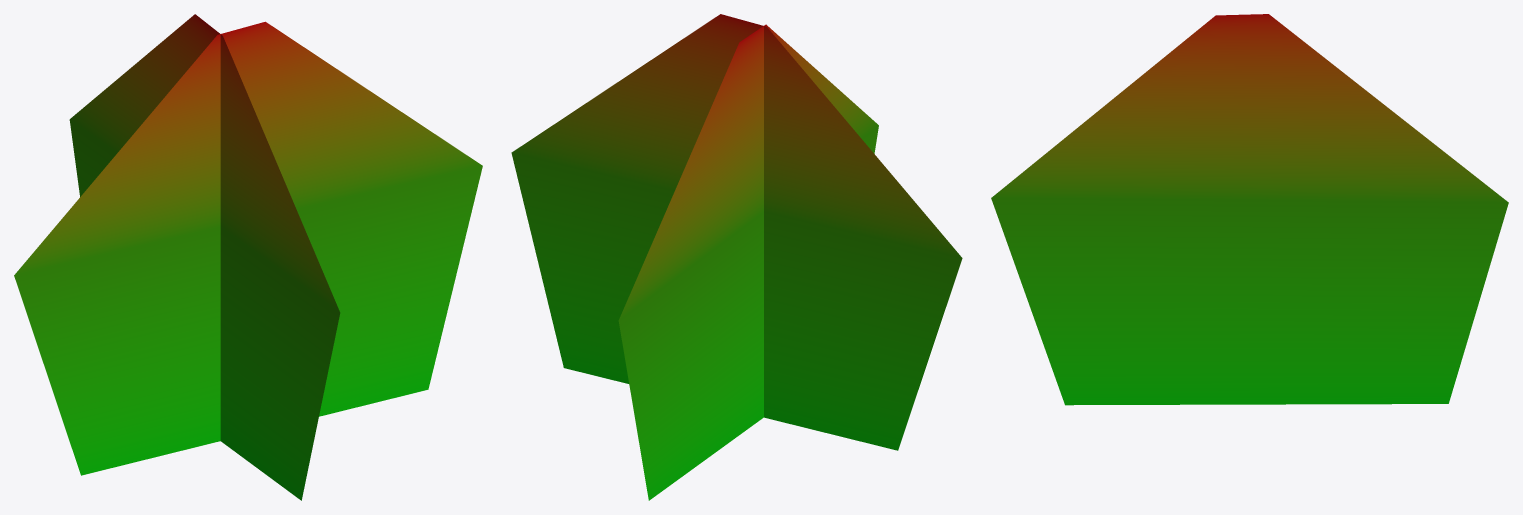
Rendered from Var2_LOD5.fbx.
3 views of the same model, side by side, from view 1: azimuth 30°, elevation 25°; view 2: azimuth 150°, elevation 25°; view 3: azimuth 270°, elevation 25° (orthographic). The views are drawn at different scales.
Parts seen in each view (by area): view 1: _kvpl_Var2_LOD5; view 2: _kvpl_Var2_LOD5; view 3: _kvpl_Var2_LOD5.
Part boxes in pixels (left/top/right/bottom): _kvpl_Var2_LOD5: left=14, top=14, right=482, bottom=500; _kvpl_Var2_LOD5: left=511, top=14, right=962, bottom=500; _kvpl_Var2_LOD5: left=991, top=14, right=1508, bottom=405.
Size of the model in its own units: 169 by 141 by 169.
